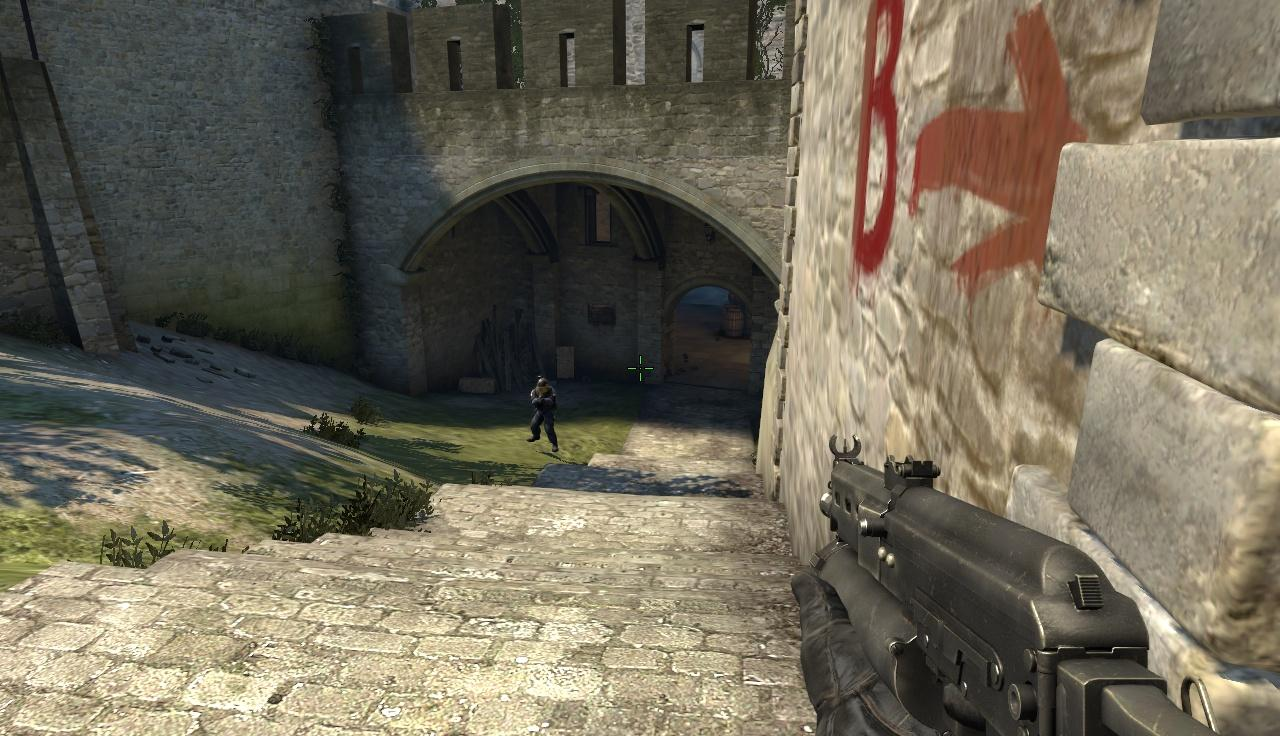ct: (529, 378, 559, 452)
cthead: (537, 378, 549, 393)
rifle: (821, 430, 1280, 731)
